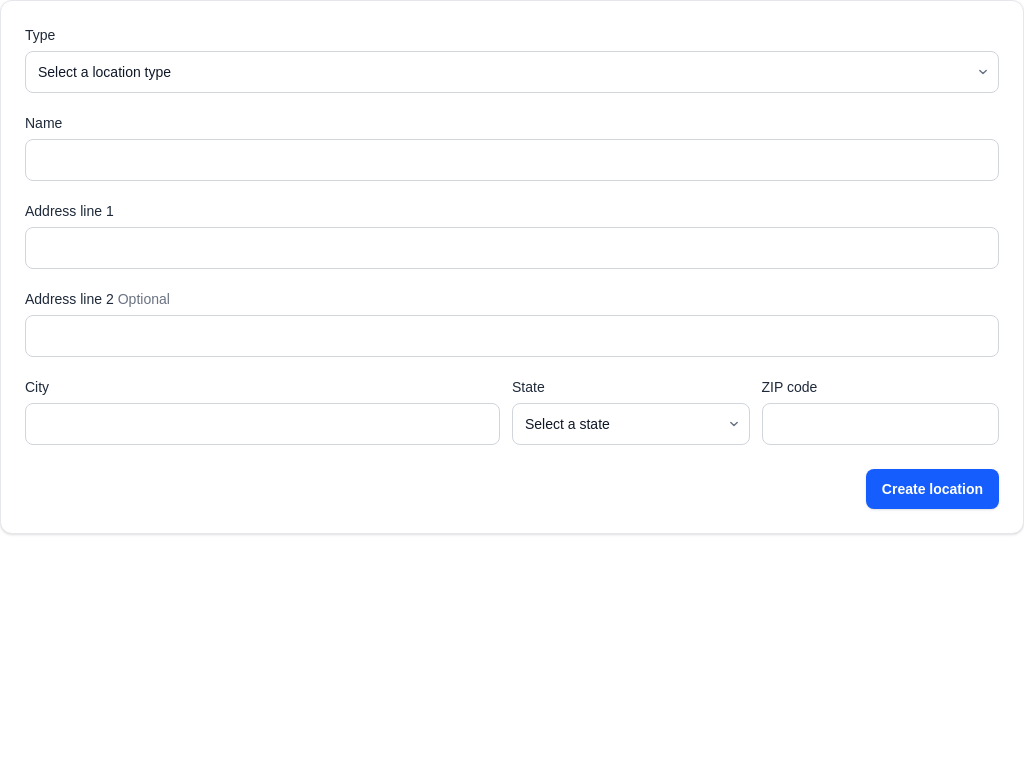
Test: LocationForm › keeps entered values and marks an invalid field after an action error
In the field labelled "Name": point(512, 160) [25,139,999,181], type "Lincoln Elementary"
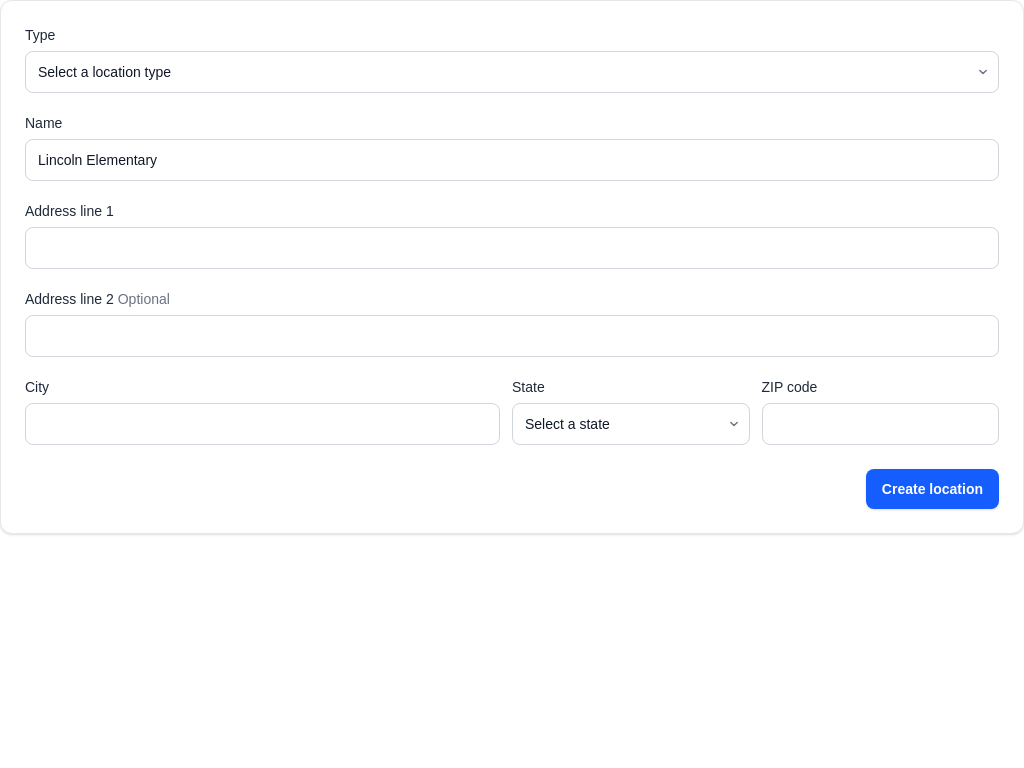
Select "IL" in the dropdown labelled "State": point(631, 424) [512,403,750,445]
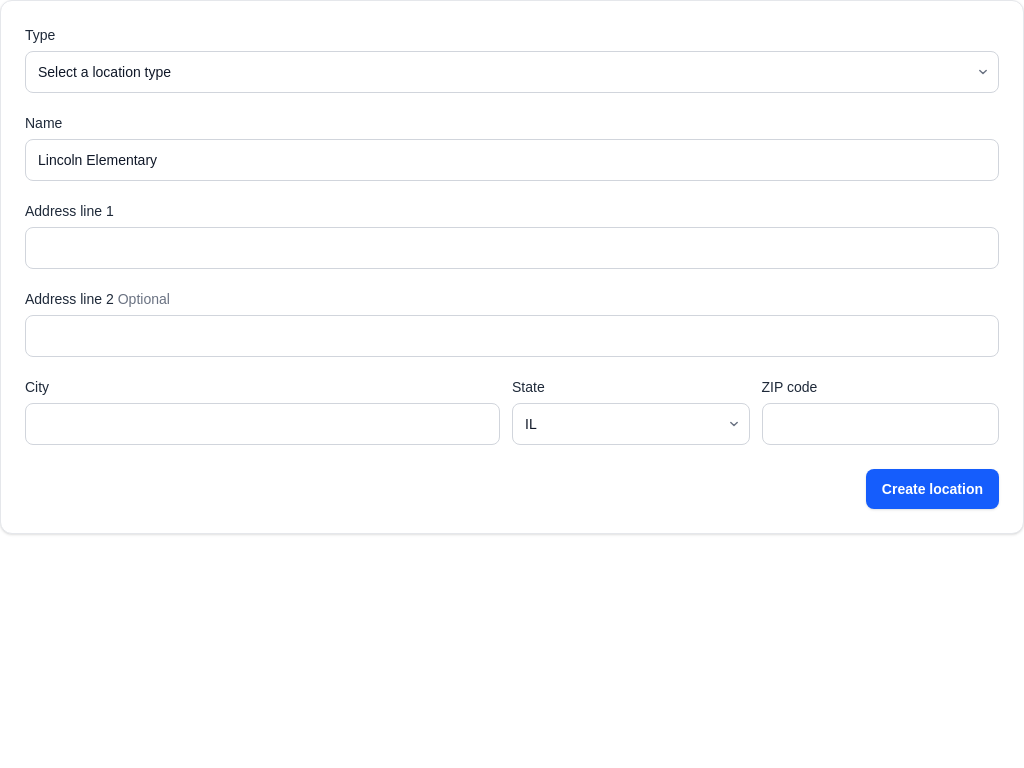
In the field labelled "ZIP code": point(880, 424) [762,403,999,445], type "60601"
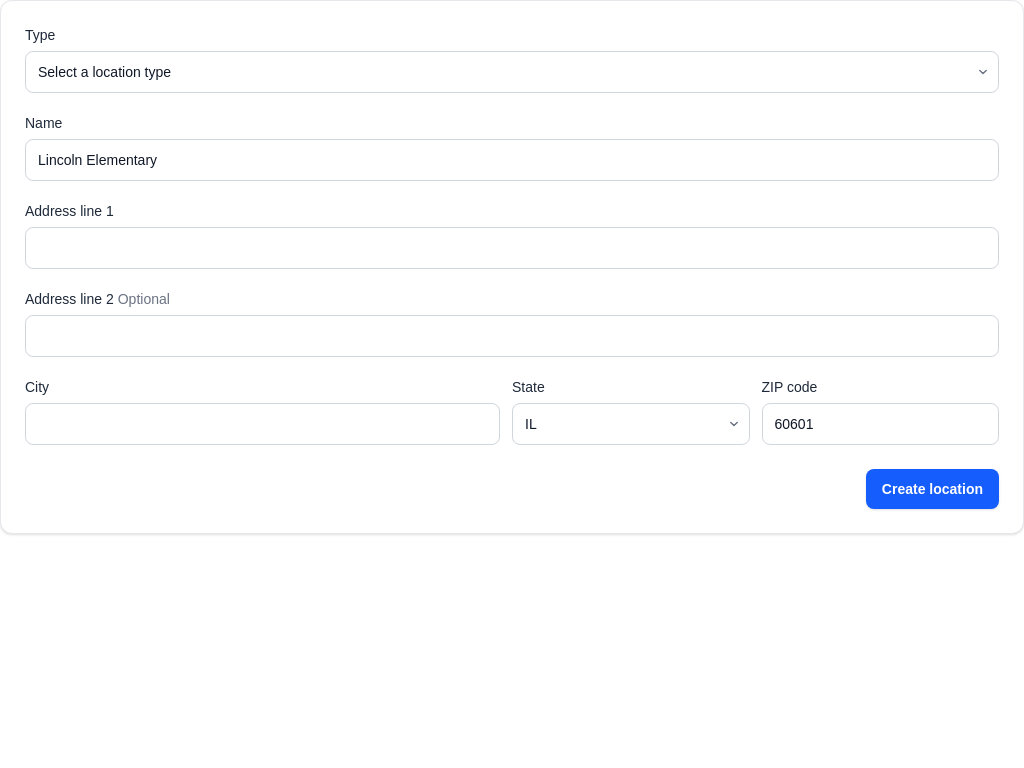
Submit the form
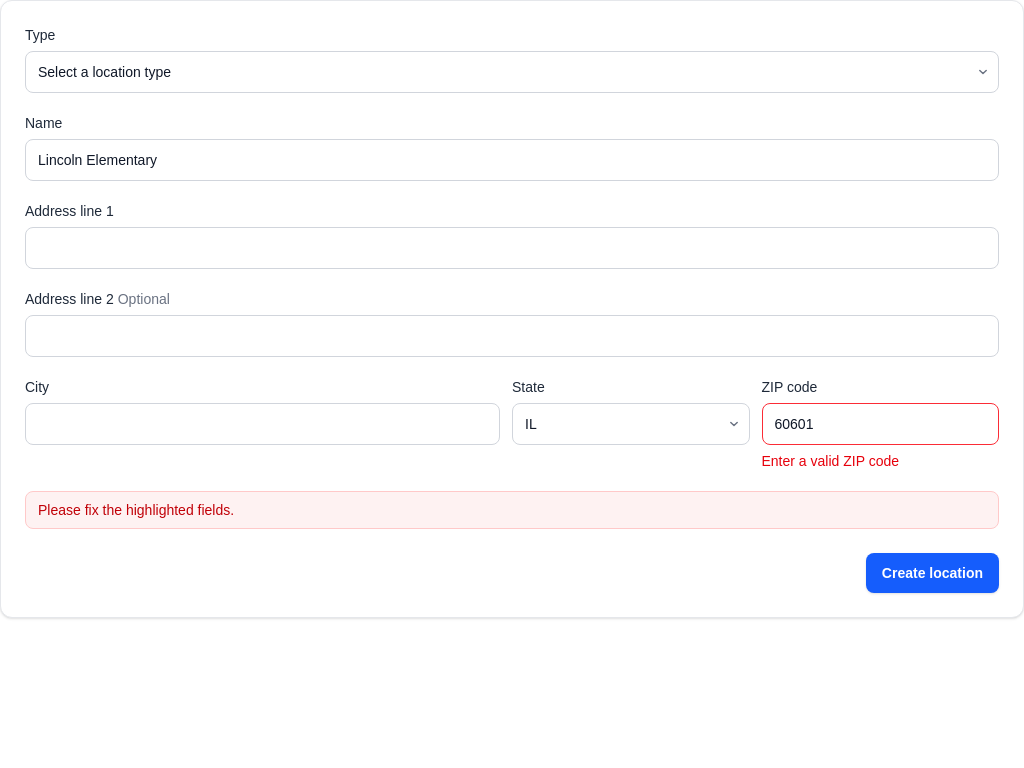
Expected: the text "Enter a valid ZIP code" is shown, [762,453,899,469]
Replace the text in the field labelled "ZIP code" with "60602": point(880, 424) [762,403,999,445]
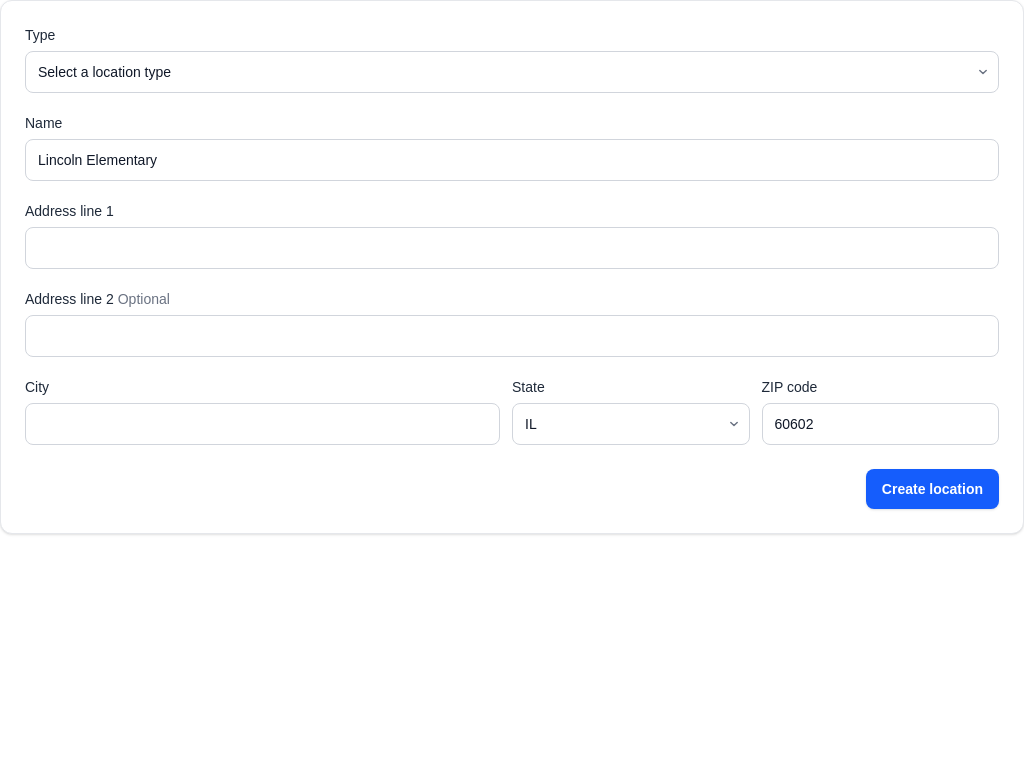
Expected: the text "Enter a valid ZIP code" is gone
